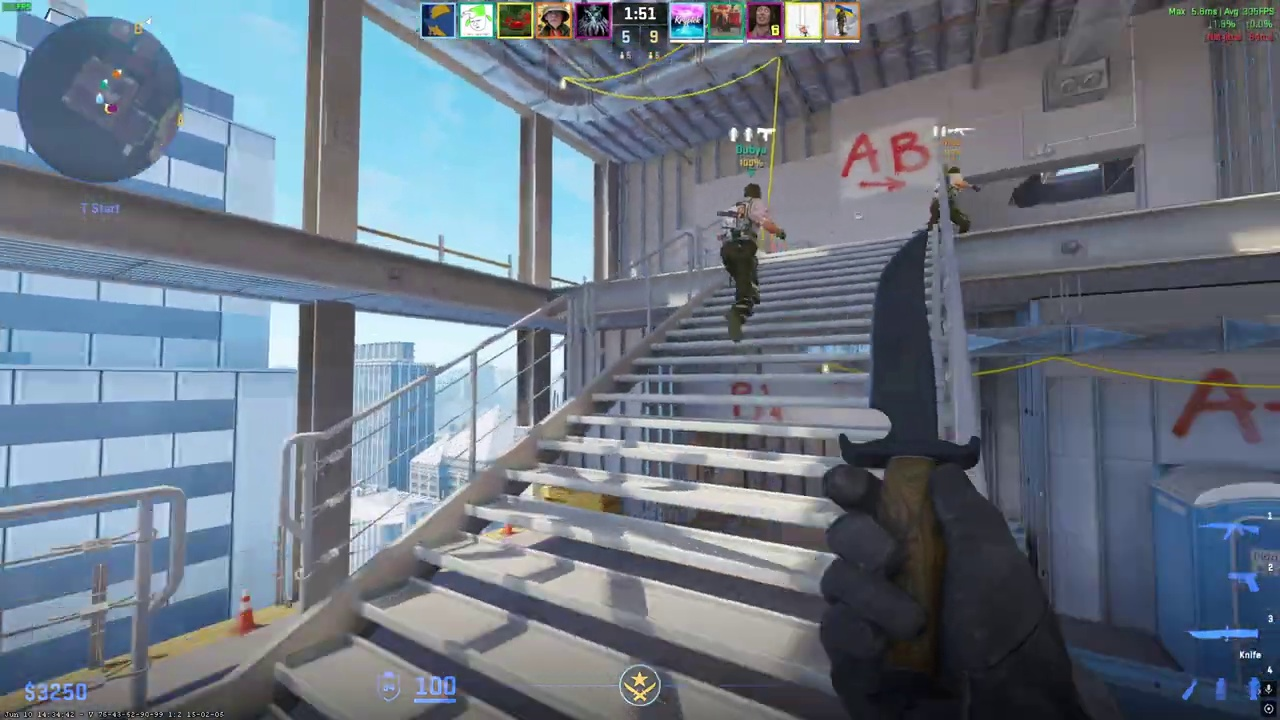Terrorist: (720, 182, 777, 342), (928, 166, 972, 235)
